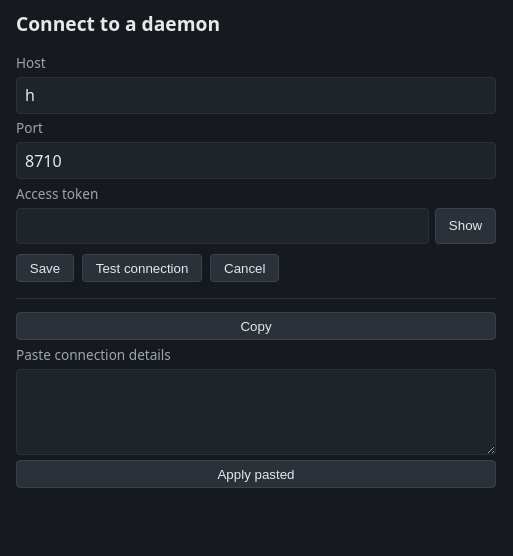
Test: ConnectionSettings › reports a successful test connection
Click the button "Test connection": point(142, 268) [82,254,202,282]
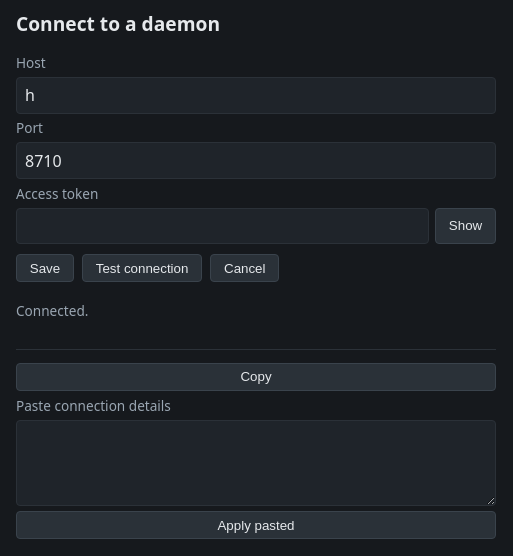
Expected: the message shows "Connected", [16,300,88,320]
